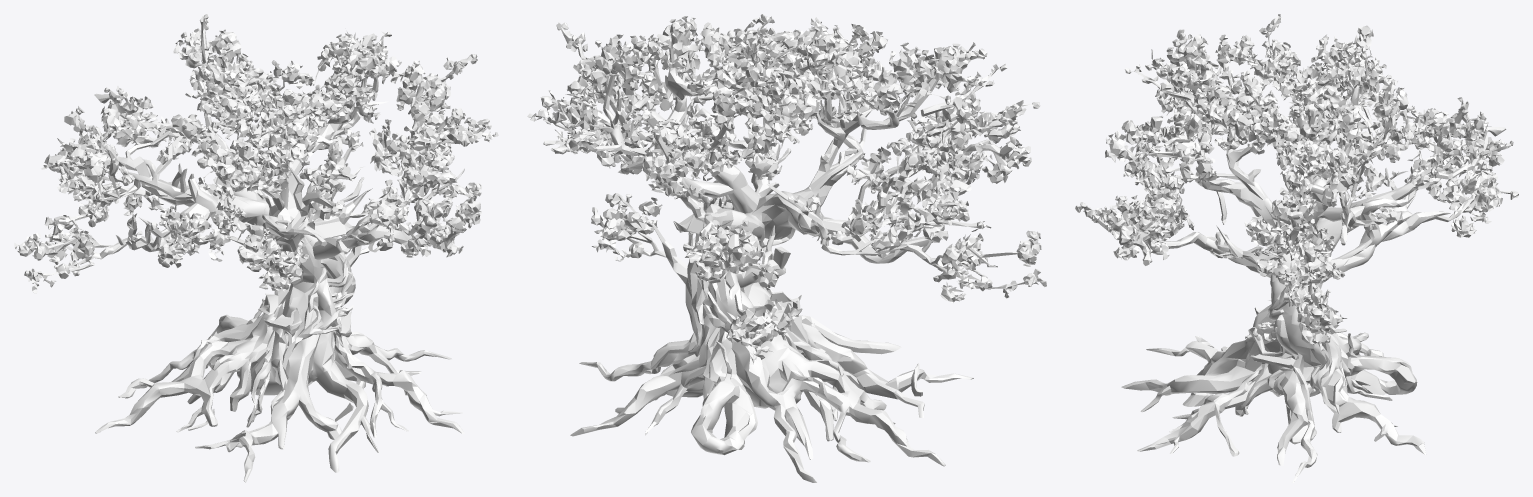
Rendered from sakura_great.glb.
The picture shows the model from 3 angles, left to right: view 1: azimuth 30°, elevation 25°; view 2: azimuth 150°, elevation 25°; view 3: azimuth 270°, elevation 25°; orthographic projection. The views are drawn at different scales.
Parts seen in each view (by area): view 1: Mesh_0; view 2: Mesh_0; view 3: Mesh_0.
Boxes of the visible parts, box(x1,y1,x2,y2) form: Mesh_0: box(14, 14, 498, 482); Mesh_0: box(527, 14, 1046, 482); Mesh_0: box(1075, 14, 1518, 482).
Size of the model in its own units: 11.48 by 8.5 by 9.62.
1 material, 1 textured.
